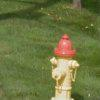Hydrant: (46, 24, 89, 100)
